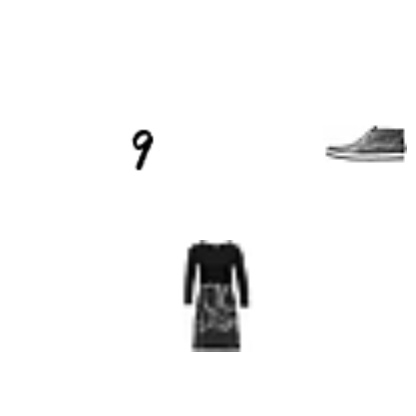9: (113, 118, 169, 174)
Dress: (160, 240, 272, 352)
Sneaker: (323, 102, 407, 186)
